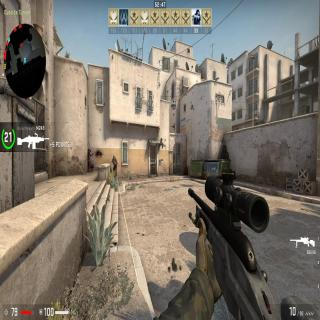T-Body: (111, 154, 118, 177)
T-Head: (112, 155, 116, 160)
